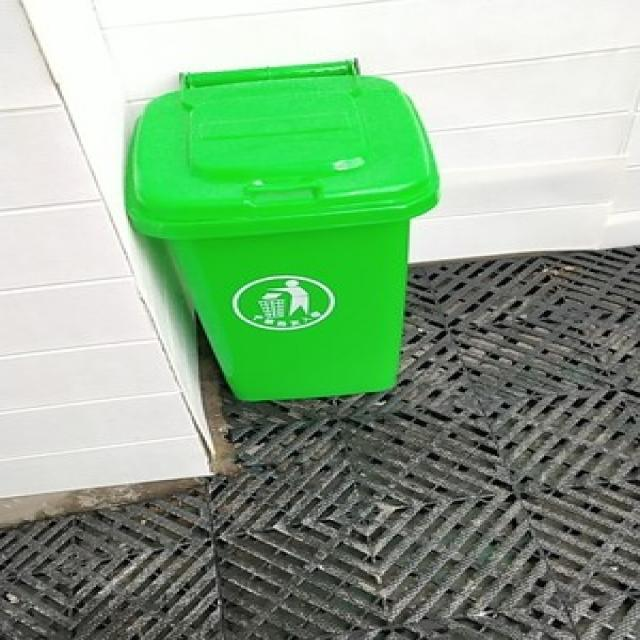ash bin: (128, 58, 439, 396)
